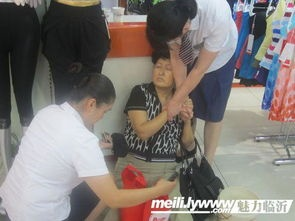falling: (97, 43, 201, 221)
